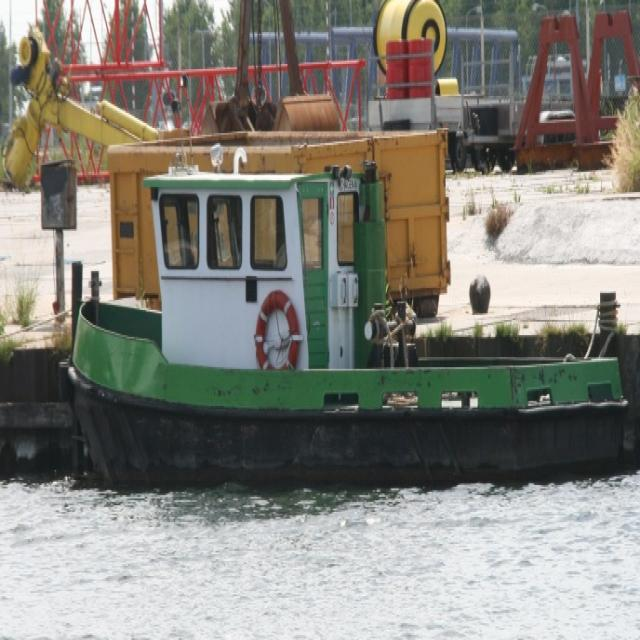tugboat: (58, 124, 634, 510)
